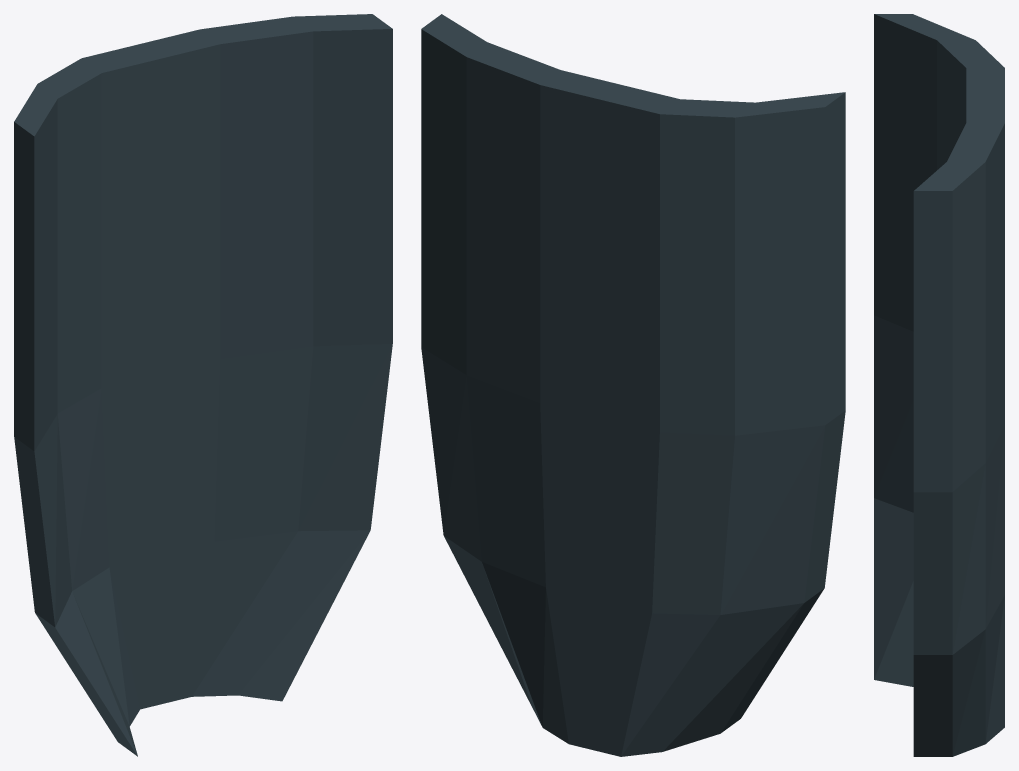
The model's file is handmade_5.obj.
3 views of the same model, side by side, from view 1: azimuth 30°, elevation 25°; view 2: azimuth 150°, elevation 25°; view 3: azimuth 270°, elevation 25° (orthographic). The views are drawn at different scales.
Parts seen in each view (by area): view 1: model; view 2: model; view 3: model.
Boxes of the visible parts, box(x1,y1,x2,y2) form: model: box(14, 14, 392, 756); model: box(421, 14, 845, 756); model: box(874, 14, 1004, 756).
Bounding box in the file's own units: 0.4526 × 0.7364 × 0.1415.
